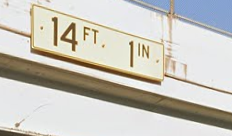1: (124, 35, 137, 71), (48, 13, 61, 48)
4: (60, 16, 80, 56)
overheadsign: (30, 2, 165, 82)
